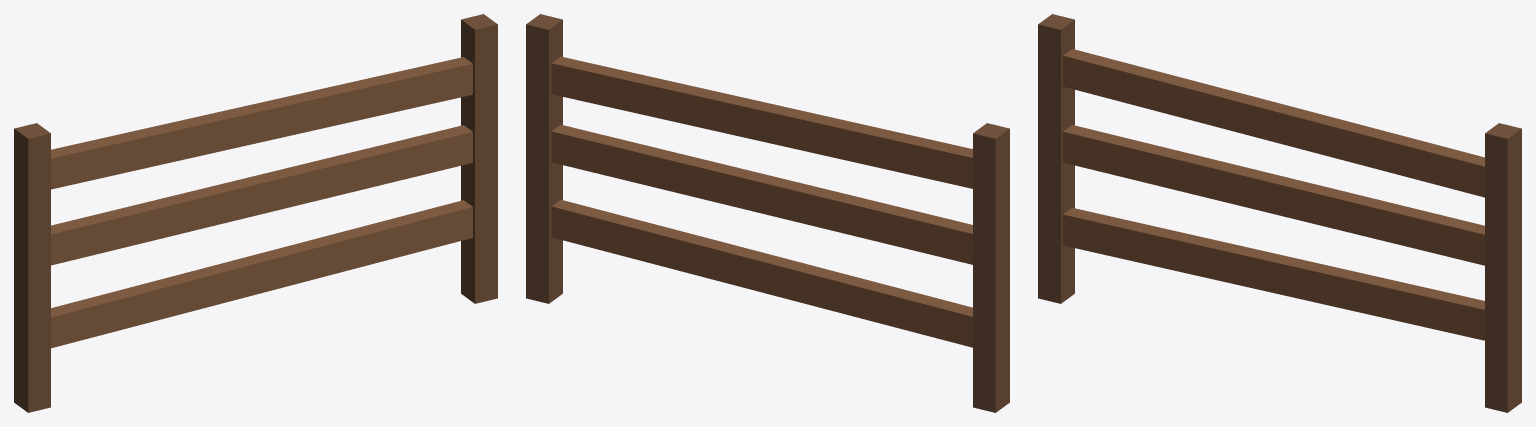
File: Fence_03.glb
3 views of the same model, side by side, from view 1: azimuth 30°, elevation 25°; view 2: azimuth 150°, elevation 25°; view 3: azimuth 330°, elevation 25° (orthographic).
Parts seen in each view (by area): view 1: Fence_03; view 2: Fence_03; view 3: Fence_03.
Boxes of the visible parts, bbox=[...] form: Fence_03: bbox=[14, 14, 497, 412]; Fence_03: bbox=[526, 14, 1009, 412]; Fence_03: bbox=[1038, 14, 1521, 412].
Size of the model in its own units: 2.63 by 1.47 by 0.137.
Materials: 1 (1 with a texture image).
